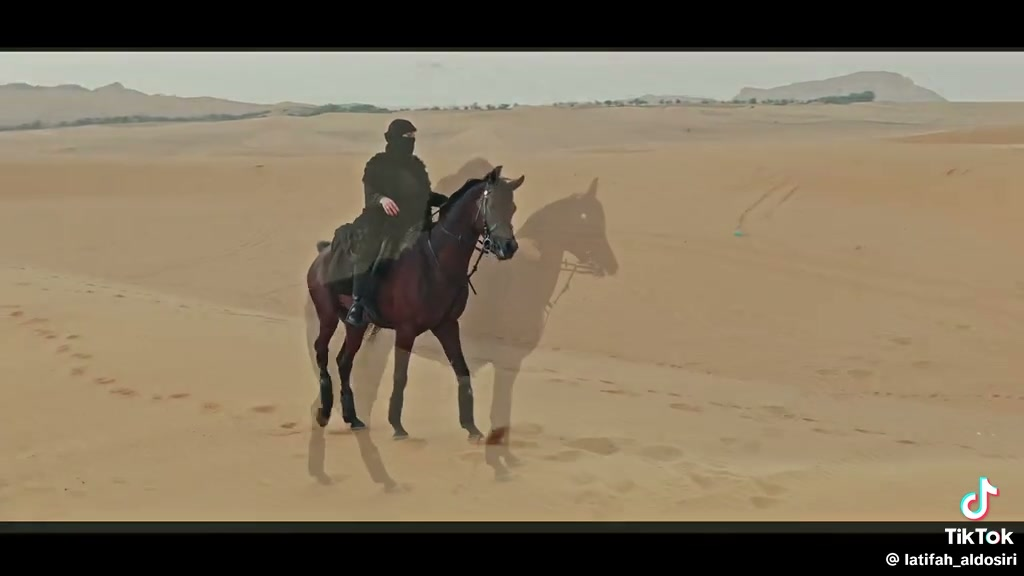animal_footprint: (10, 305, 142, 398)
